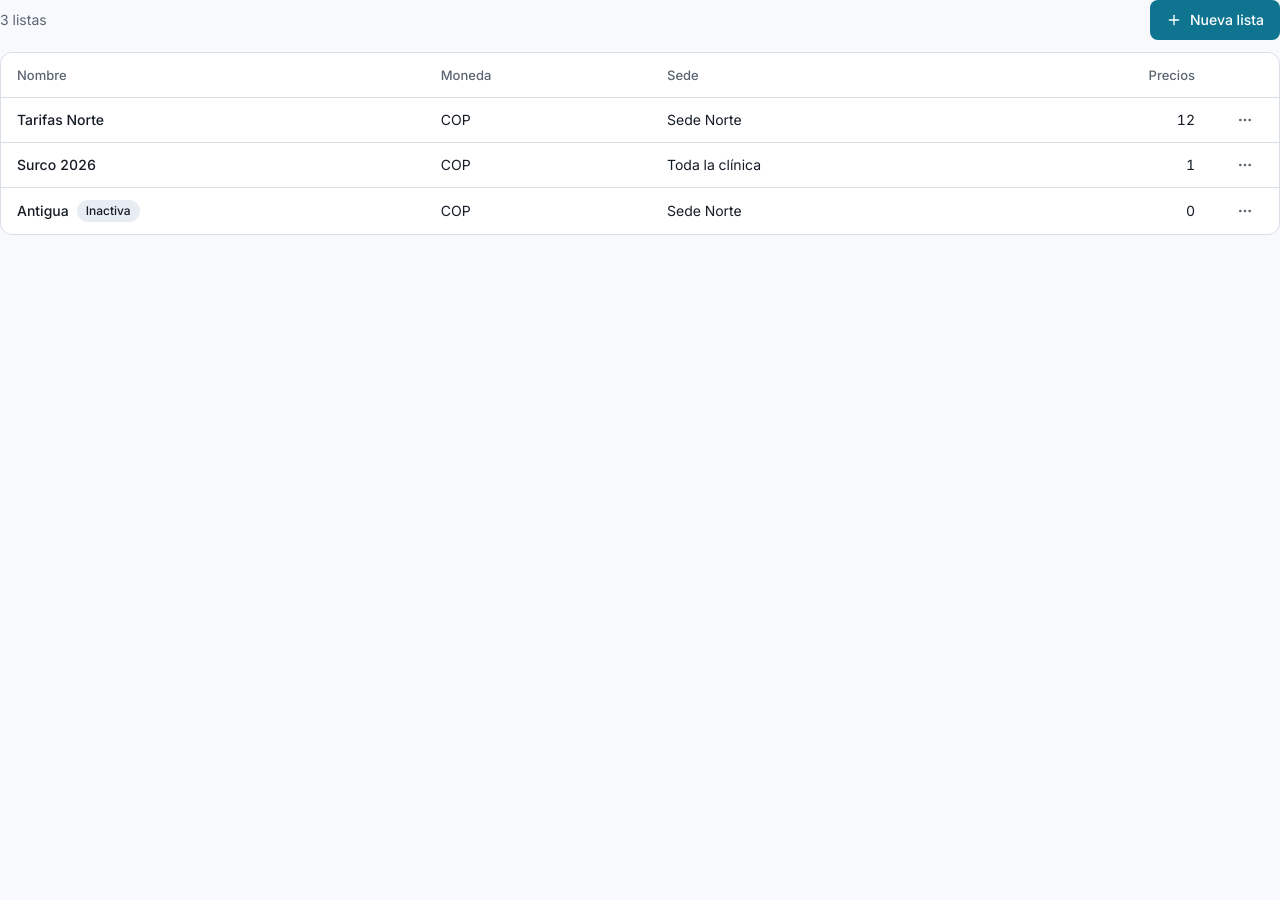
Scenario: PriceListsManager (DX-105) › el error de la API al guardar se muestra en el modal
Check: the table named "Listas de precios" is shown, box [1,53,1279,234]
Click the button named "Acciones de Antigua".
click(1245, 210)  # box [1227,192,1263,228]
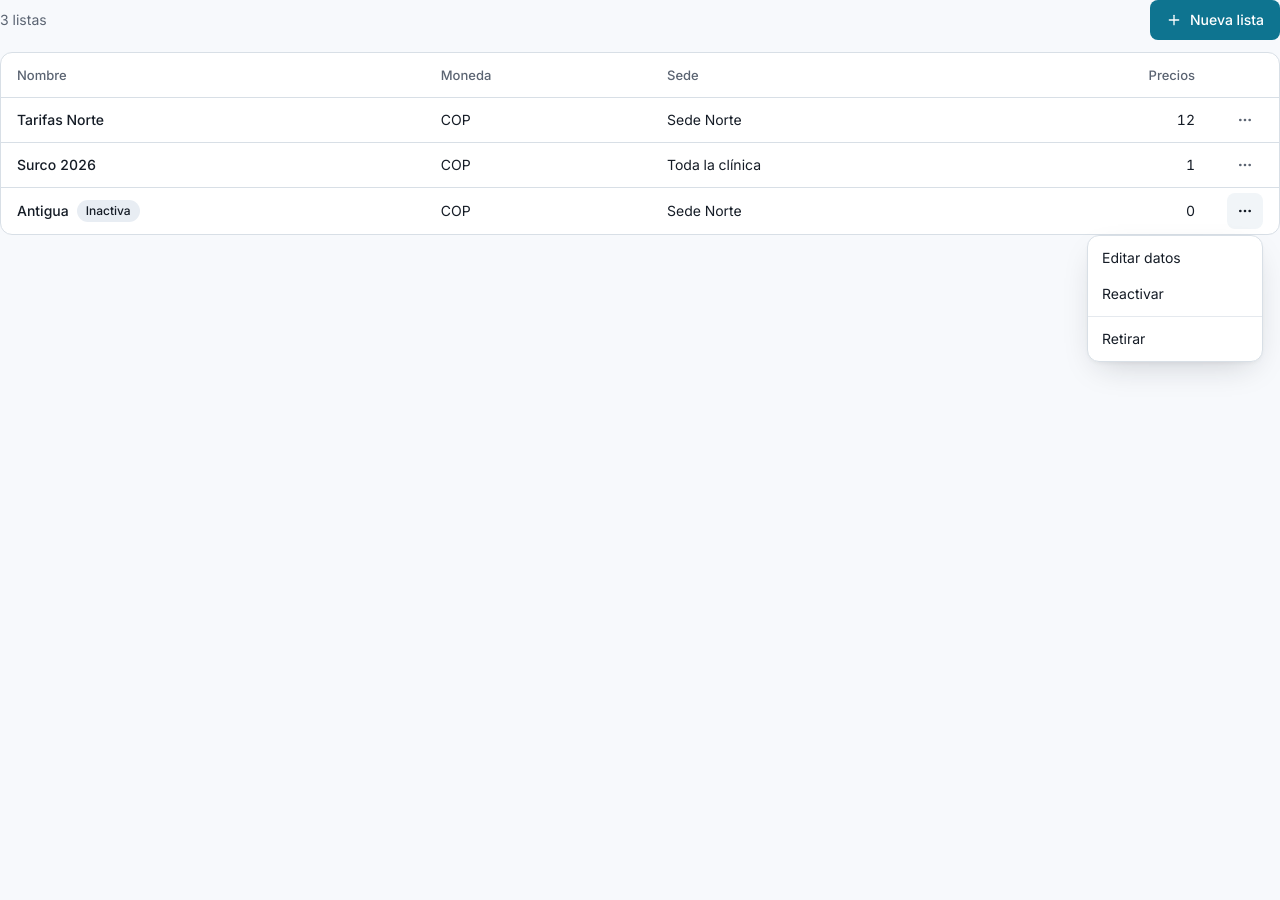
Click the menu item "Editar datos".
click(1141, 258)  # box [1102,249,1181,266]
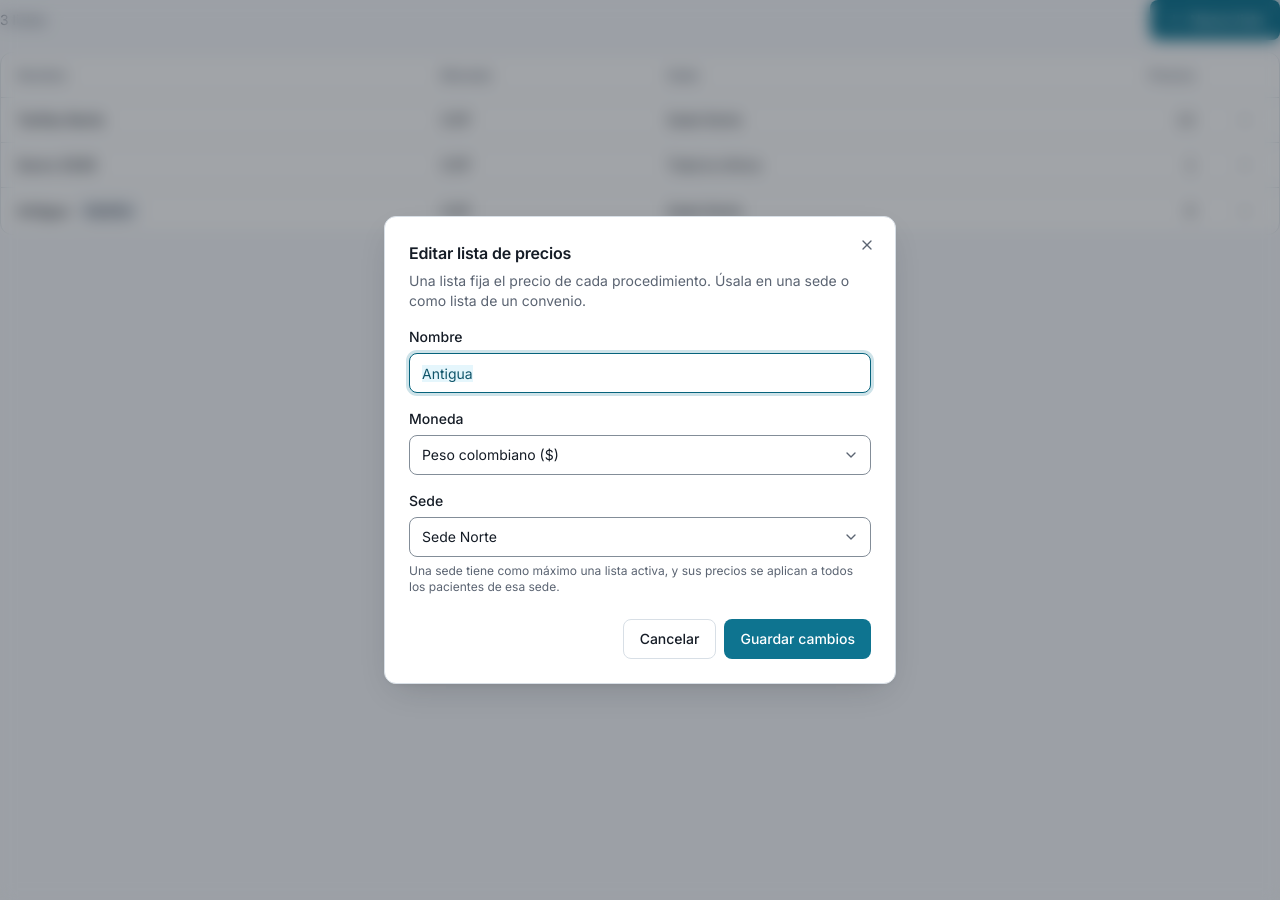
Click the button "Guardar cambios".
click(798, 639)  # box [724,619,871,659]
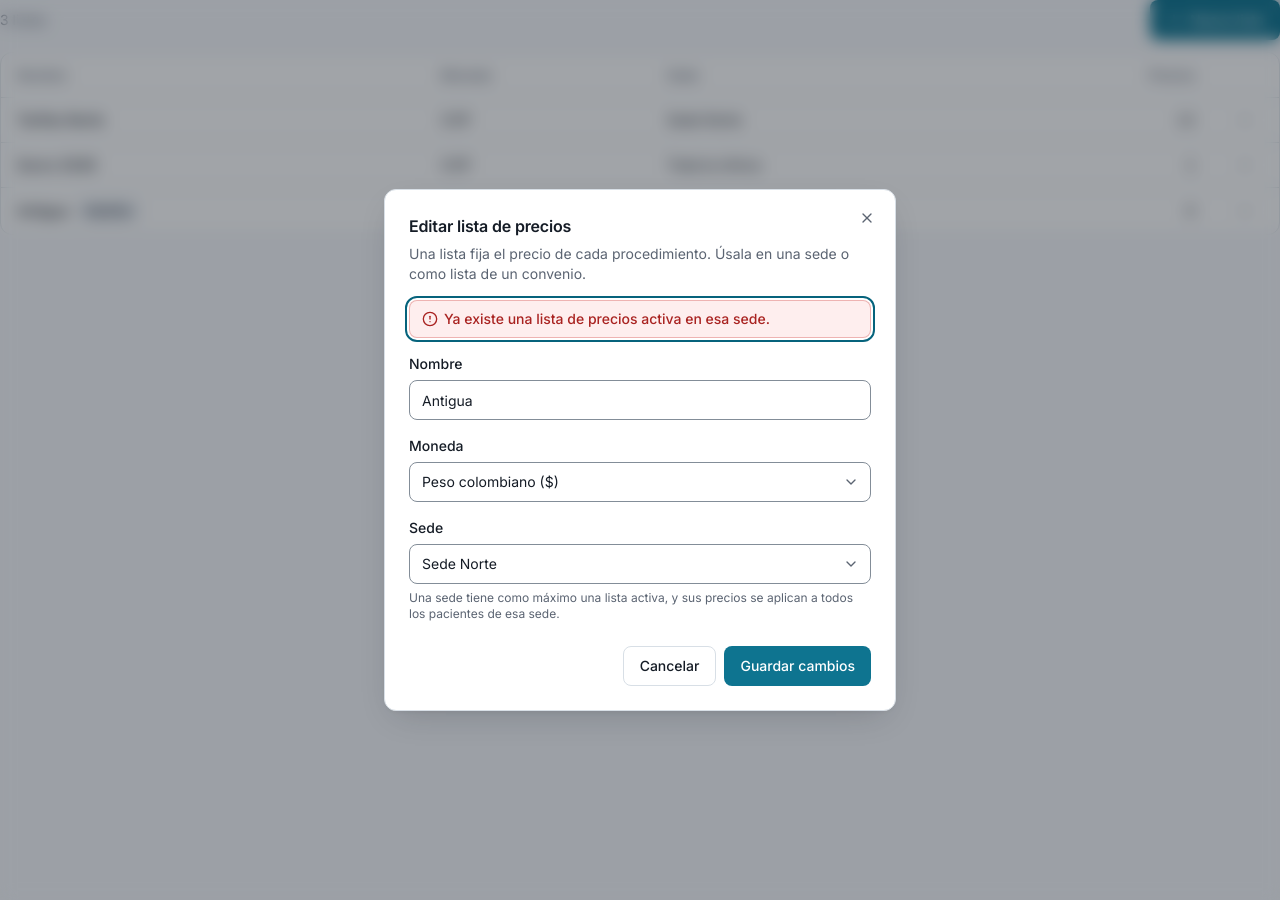
Check: the text "Ya existe una lista de precios activa en esa sede." is shown, box [444,309,770,329]
